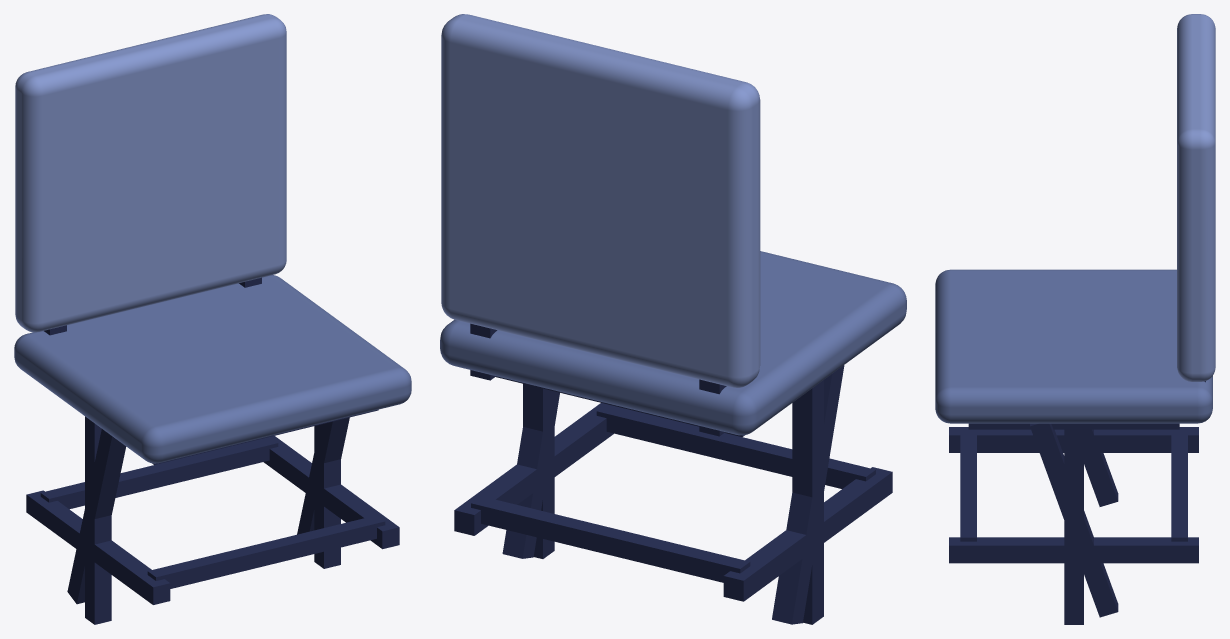
3 views of the same model, side by side, from view 1: azimuth 30°, elevation 25°; view 2: azimuth 150°, elevation 25°; view 3: azimuth 270°, elevation 25° (orthographic). The views are drawn at different scales.
Parts seen in each view (by area): view 1: chair-back, chair-seat, crossbeam-front, crossbeam-rear, crossbeam-rail-left, crossbeam-rail-right, crossbeam-side-left, crossbeam-diagonal-left, crossbeam-diagonal-right, crossbeam-side-right; view 2: chair-back, chair-seat, crossbeam-rear, crossbeam-front, crossbeam-rail-left, crossbeam-side-left, crossbeam-rail-right, crossbeam-diagonal-left, crossbeam-diagonal-right, crossbeam-side-right; view 3: chair-seat, chair-back, crossbeam-rail-right, crossbeam-rail-left, crossbeam-side-right, crossbeam-diagonal-right, crossbeam-front, crossbeam-rear, crossbeam-diagonal-left, seat-support-rail.
Part boxes in pixels (x1,y1,x2,y2): chair-back: (15, 14, 286, 332); chair-seat: (14, 275, 411, 463); crossbeam-front: (147, 515, 385, 588); crossbeam-rear: (40, 437, 278, 509); crossbeam-rail-left: (26, 490, 170, 604); crossbeam-rail-right: (263, 436, 399, 549); crossbeam-side-left: (85, 416, 111, 624); crossbeam-diagonal-left: (67, 429, 126, 604); crossbeam-diagonal-right: (297, 417, 349, 534); crossbeam-side-right: (314, 425, 340, 568); chair-back: (441, 14, 760, 387); chair-seat: (440, 251, 906, 435); crossbeam-rear: (471, 496, 750, 582); crossbeam-front: (596, 404, 875, 488); crossbeam-rail-left: (723, 467, 892, 601); crossbeam-side-left: (792, 380, 823, 624); crossbeam-rail-right: (454, 403, 613, 535); crossbeam-diagonal-left: (772, 365, 844, 624); crossbeam-diagonal-right: (502, 390, 559, 558); crossbeam-side-right: (523, 384, 554, 558); chair-seat: (935, 269, 1212, 423); chair-back: (1177, 14, 1215, 381); crossbeam-rail-right: (949, 537, 1198, 563); crossbeam-rail-left: (949, 427, 1198, 452); crossbeam-side-right: (1064, 423, 1083, 624); crossbeam-diagonal-right: (1030, 423, 1118, 617); crossbeam-front: (960, 427, 976, 541); crossbeam-rear: (1171, 427, 1187, 541); crossbeam-diagonal-left: (1084, 429, 1118, 506); seat-support-rail: (968, 423, 1179, 429).
Size of the model in its own units: 0.55 by 0.98 by 0.505.
